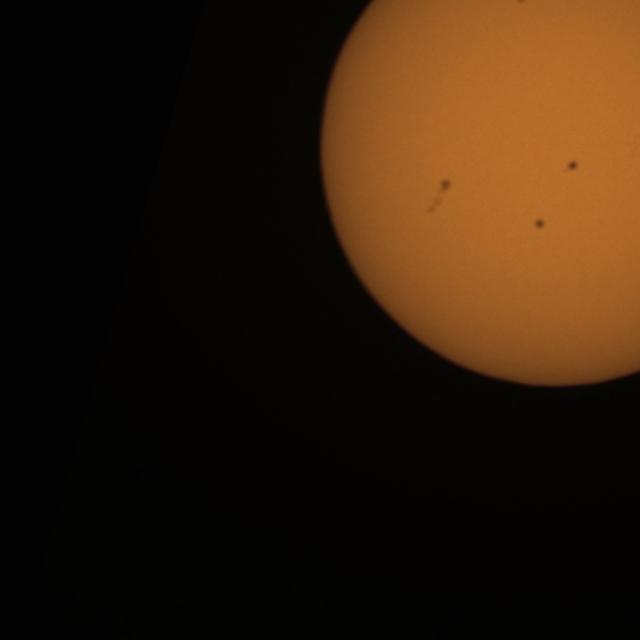sunspot: (425, 178, 452, 216), (565, 159, 580, 174), (533, 217, 546, 231), (516, 0, 526, 5)
